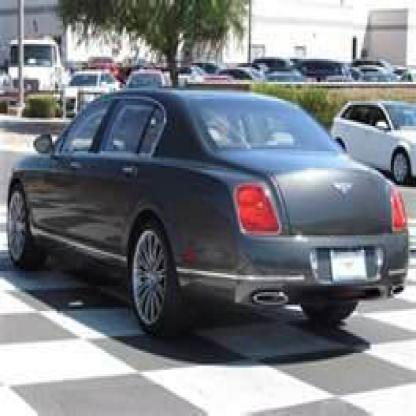Vehicle: (7, 76, 414, 357)
